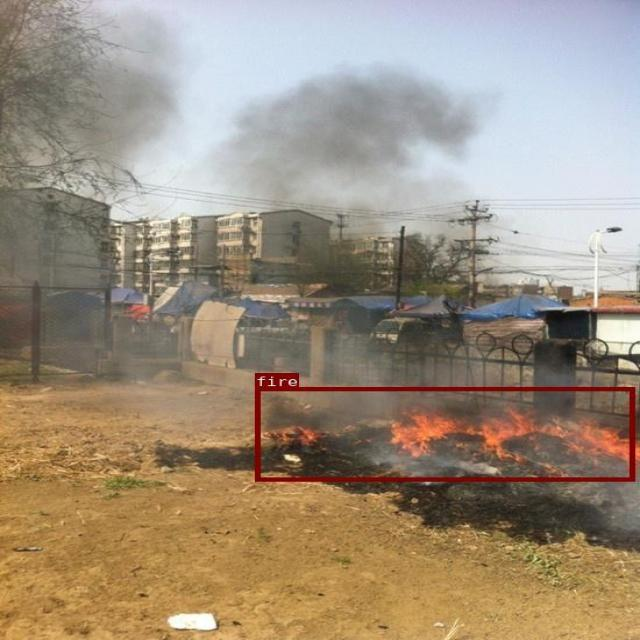fire: (254, 386, 633, 481)
